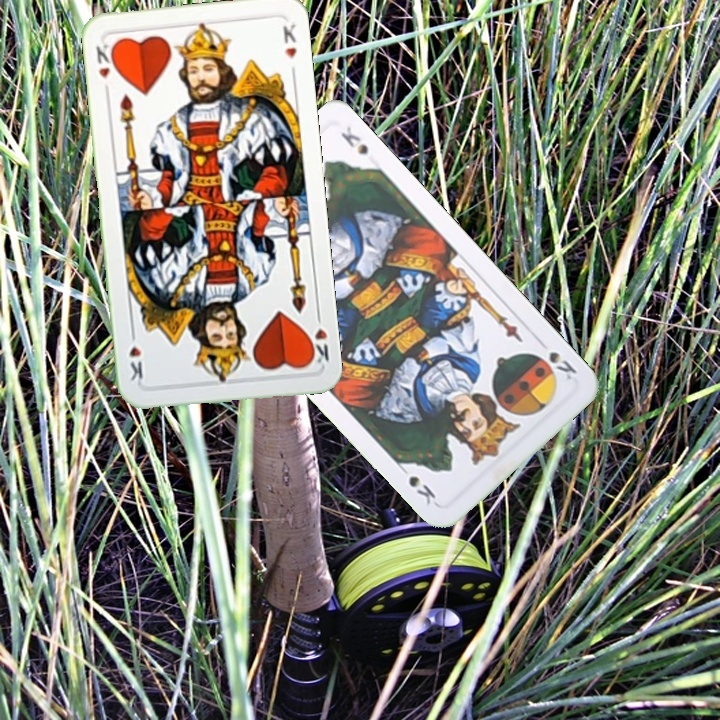HK: (303, 308, 332, 368), (92, 40, 119, 96)
SK: (545, 347, 580, 383)
